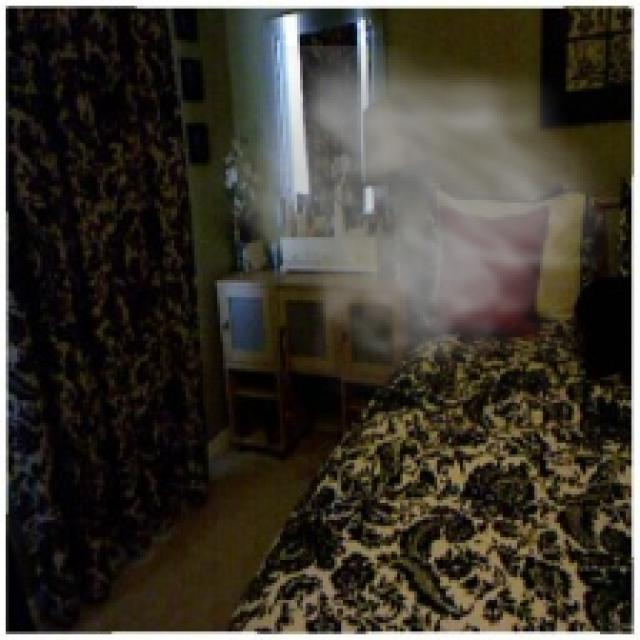Smoke: (206, 46, 628, 400)
